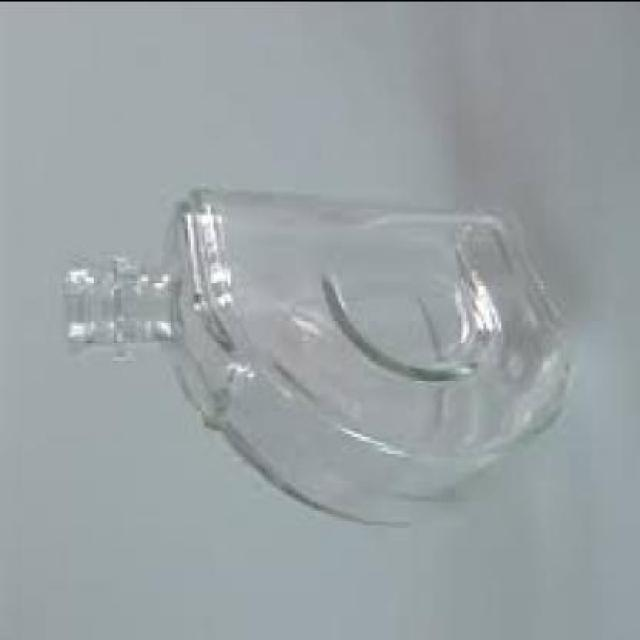glass: (63, 183, 569, 522)
